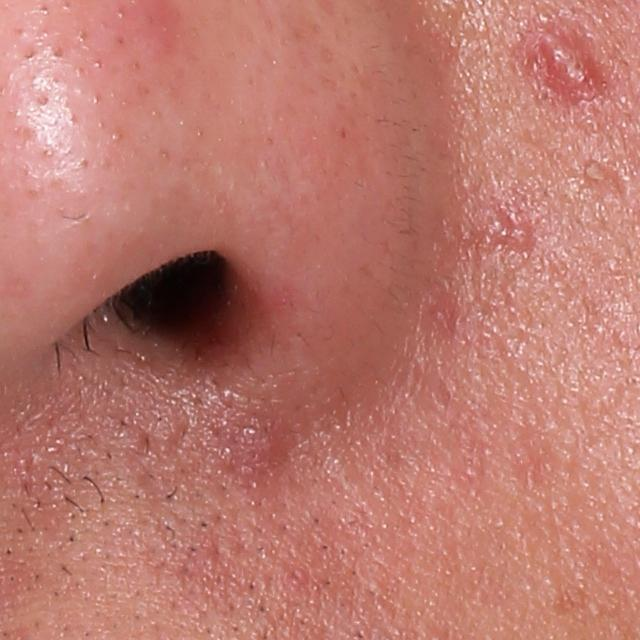papule: (535, 23, 609, 103), (241, 413, 289, 473), (504, 220, 533, 265)
